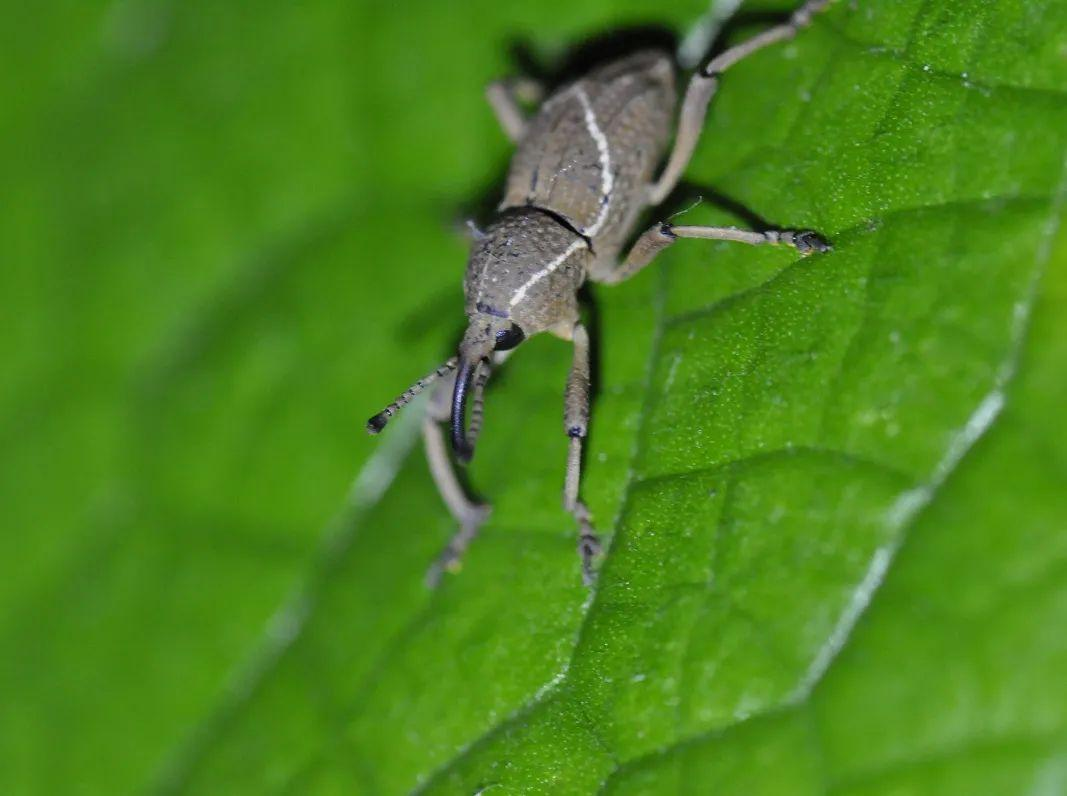Curculionidae: (361, 1, 838, 594)
